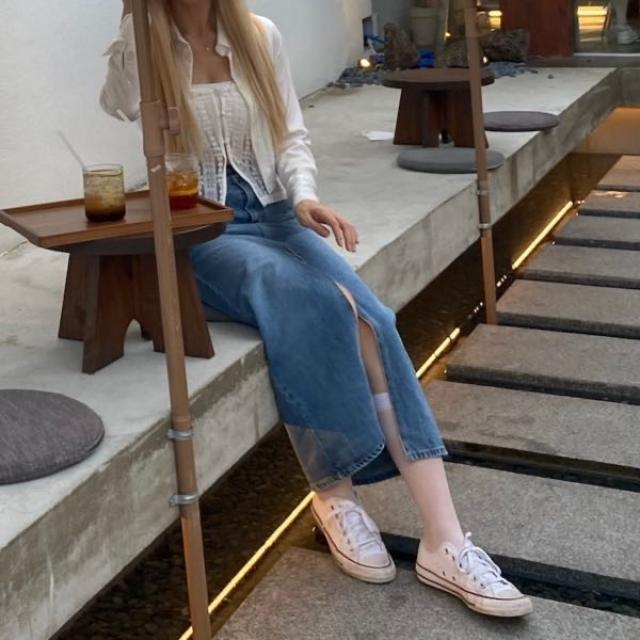shirt: (102, 10, 318, 210)
skirt: (170, 168, 457, 492)
